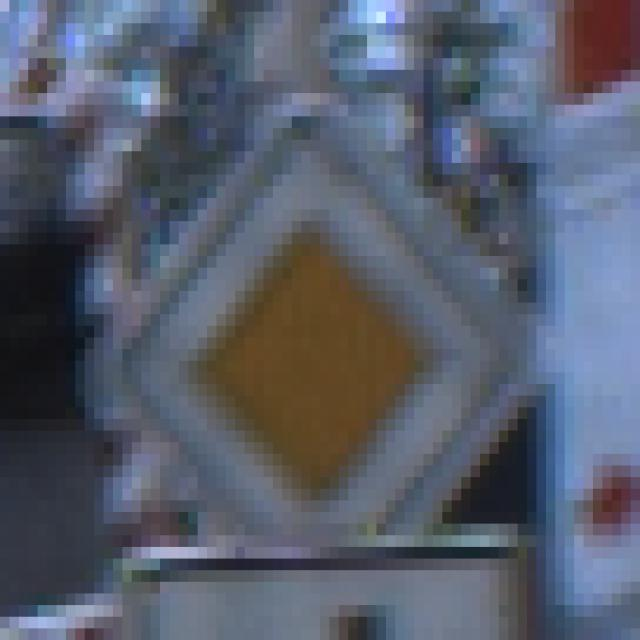Main Road: (58, 71, 585, 583)
